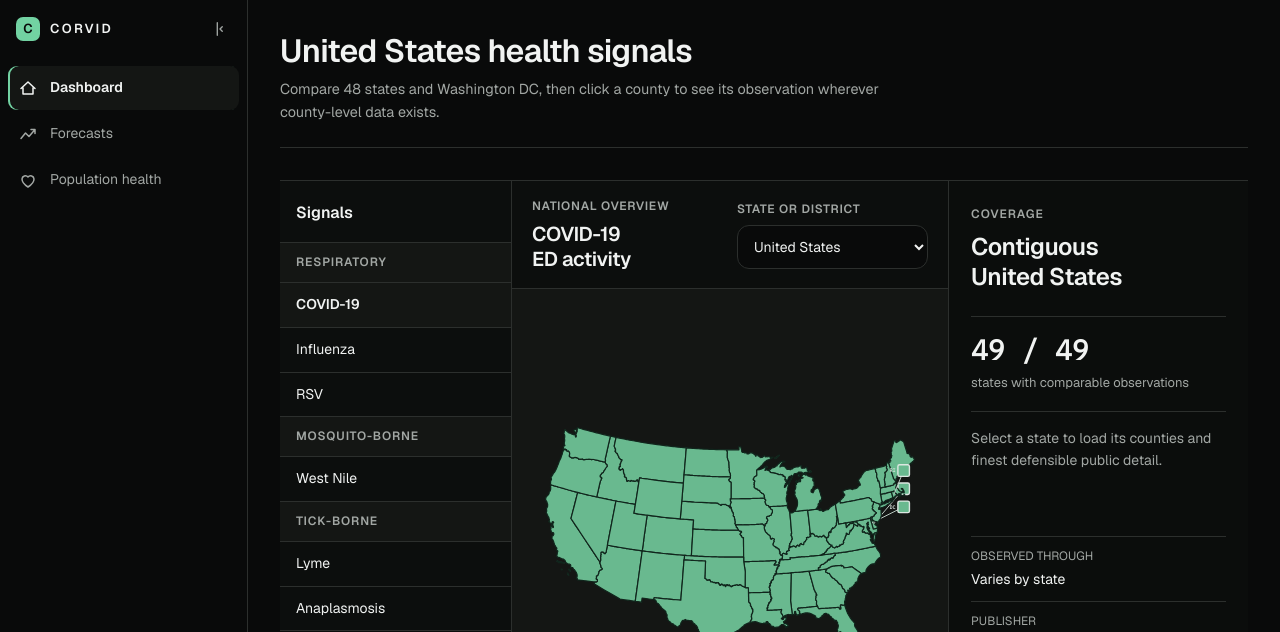
Test: NationalDashboard › loads county boundaries without waiting for publisher detail
Select "Massachusetts" in the dropdown named "Choose a state": x=832, y=247 [737, 225, 928, 269]
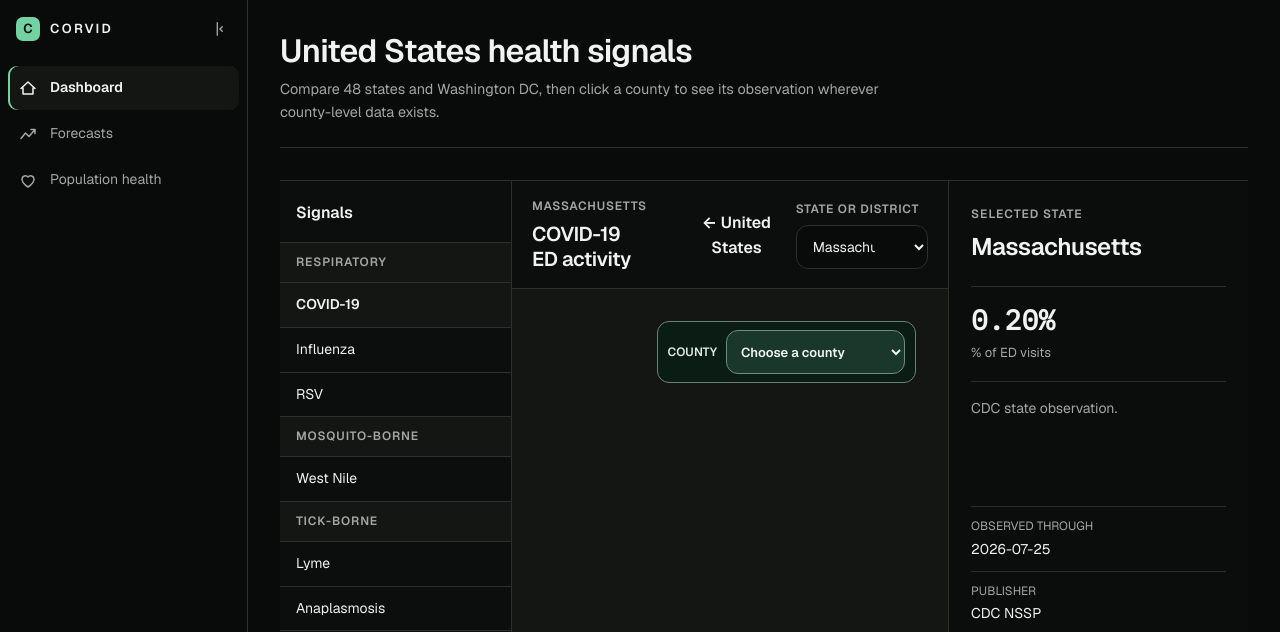
Select "Middlesex County" in the dropdown named "Choose a county": x=816, y=352 [726, 330, 905, 374]
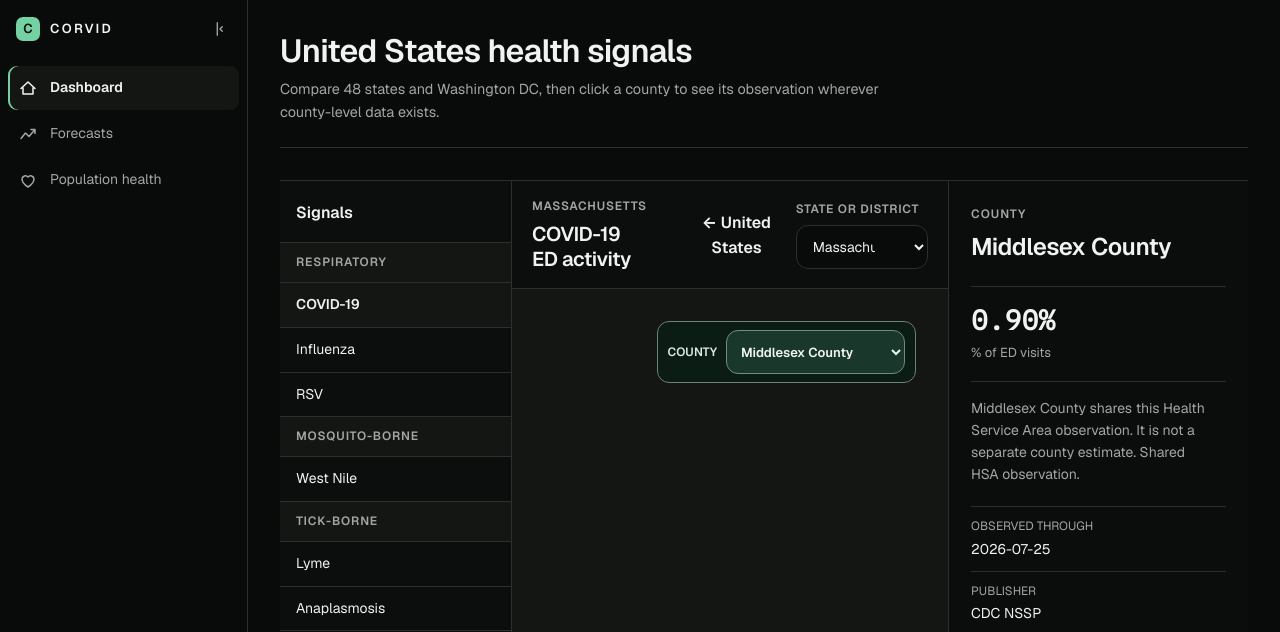
Expected: the text "0.90%" is shown, [971, 301, 1055, 338]
